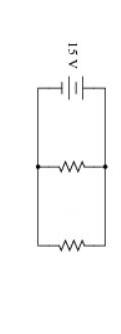resistor: (45, 151, 97, 182), (38, 229, 100, 252)
